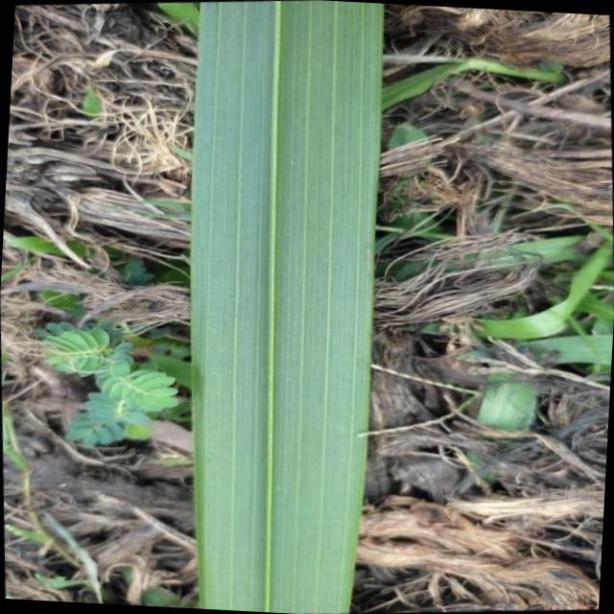Healthy: (192, 0, 385, 614)
